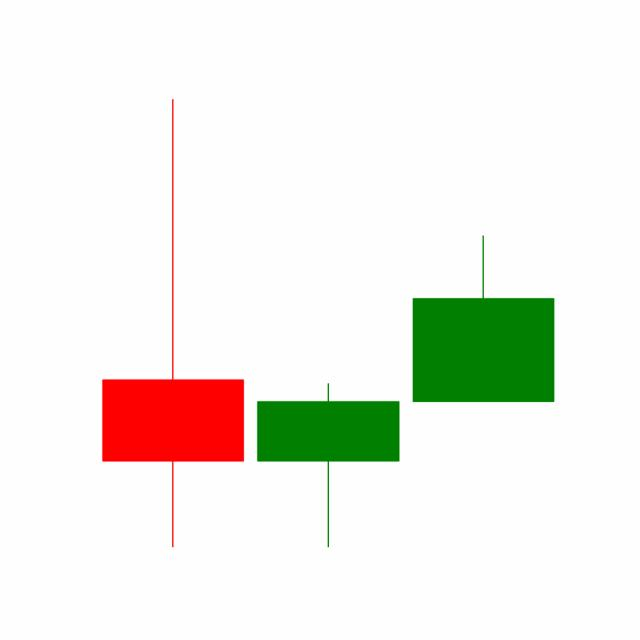Hammer: (249, 381, 406, 550)
